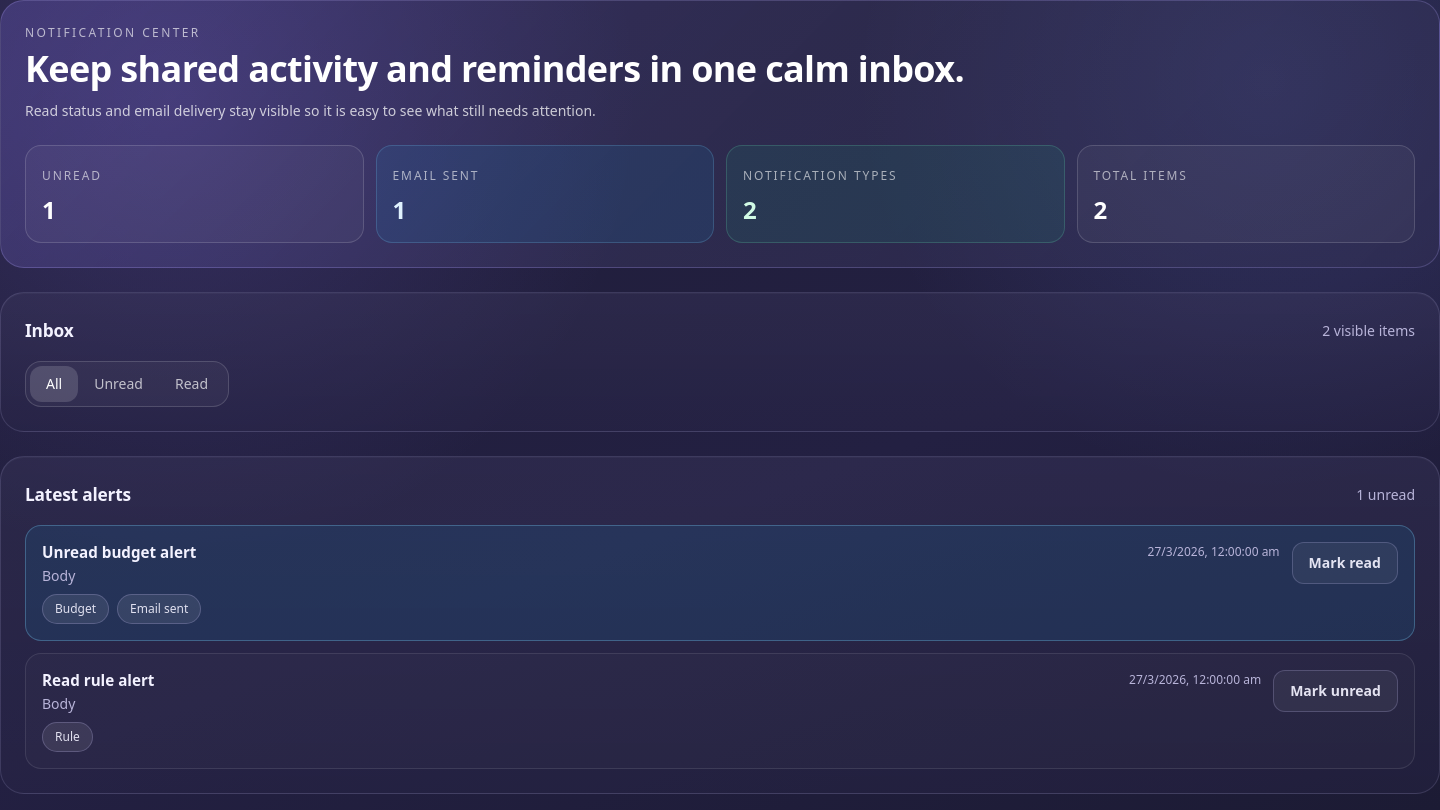
Scenario: NotificationsInboxPage › filters unread notifications
Click the button "Unread": (119, 384) [78,366,159,402]
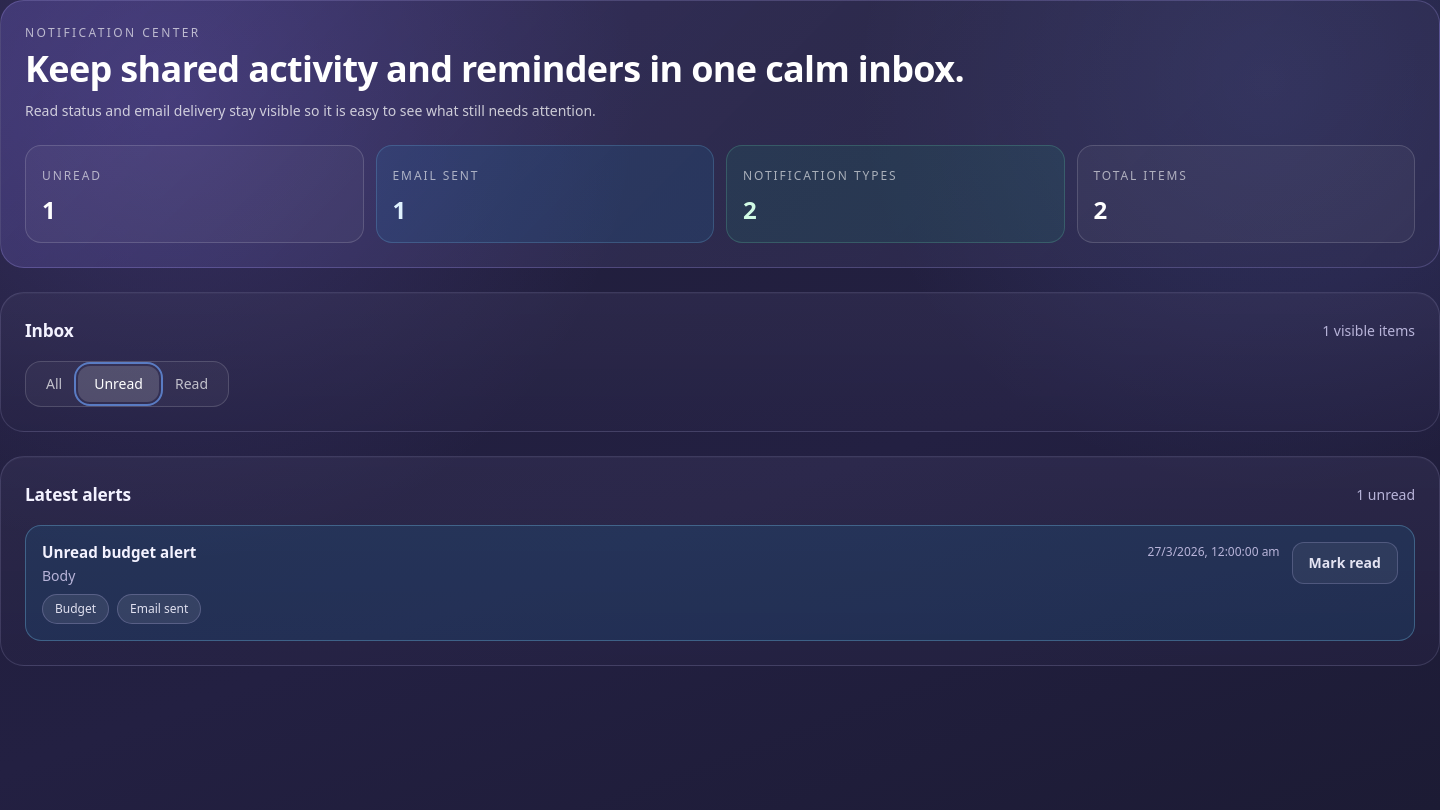
Check: the heading "Unread budget alert" is shown, box [42,542,196,562]
Check: the heading "Read rule alert" is gone
